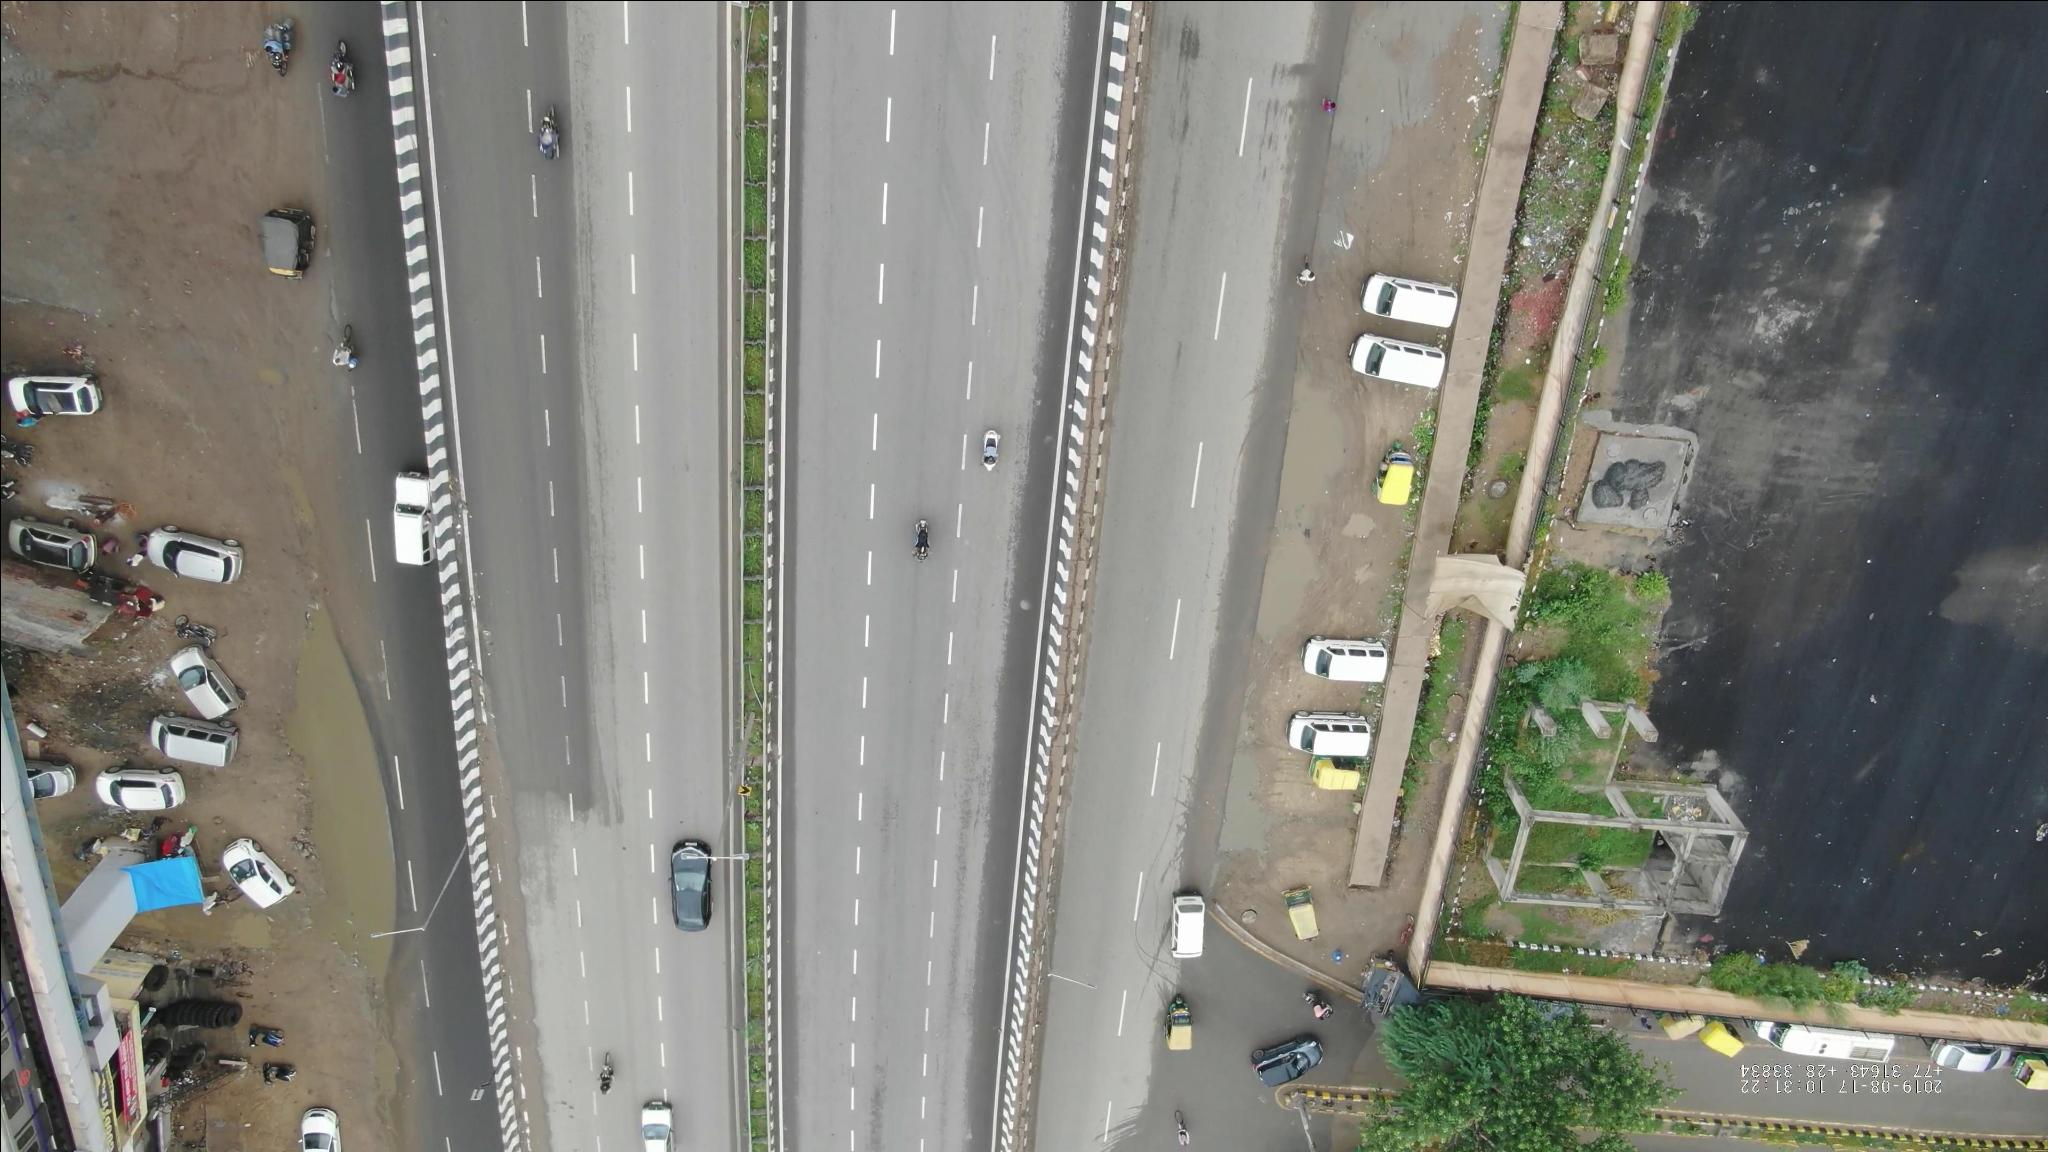Waterlogging: (288, 605, 407, 1004), (1212, 745, 1265, 885)
